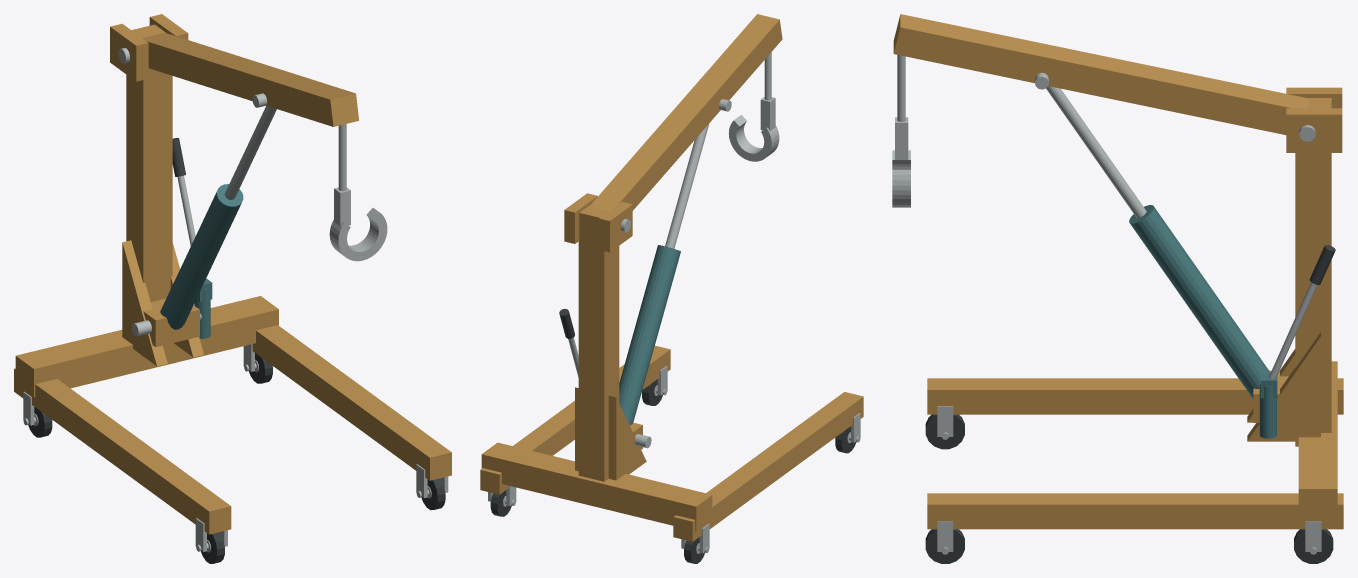
3 views of the same model, side by side, from view 1: azimuth 30°, elevation 25°; view 2: azimuth 150°, elevation 25°; view 3: azimuth 270°, elevation 25° (orthographic). The views are drawn at different scales.
Parts seen in each view (by area): view 1: WholeRearUprightMast, WholeLongChassisLegLeft, WholeRearChassisCrossmember, WholeLongChassisLegRight, WholeHighInclinedBoom, WholeInclinedCylinderBody, WholeMastFootGussetNear, WholeOpenSuspendedHook, WholeUpperPivotCheekNear, WholeLowerStrutBracket, WholeExtendedSmoothRod, WholeHookUpperShank (+3 smaller); view 2: WholeRearUprightMast, WholeHighInclinedBoom, WholeRearChassisCrossmember, WholeLongChassisLegLeft, WholeInclinedCylinderBody, WholeLongChassisLegRight, WholeMastFootGussetNear, WholeExtendedSmoothRod, WholeOpenSuspendedHook, WholeUpperPivotCheekNear, WholeUpperPivotCheekFar, WholeHookUpperShank; view 3: WholeHighInclinedBoom, WholeLongChassisLegRight, WholeLongChassisLegLeft, WholeRearUprightMast, WholeInclinedCylinderBody, WholeRearChassisCrossmember, WholeMastFootGussetFar, WholeUpperPivotCheekFar, WholeExtendedSmoothRod, WholeOpenSuspendedHook, WholeSmallPumpBody, WholeWheelTireLeftFront (+6 smaller).
Part boxes in pixels (<box>): WholeRearUprightMast: <box>126,24,172,356</box>; WholeLongChassisLegLeft: <box>14,368,231,534</box>; WholeRearChassisCrossmember: <box>15,296,278,397</box>; WholeLongChassisLegRight: <box>252,325,451,480</box>; WholeHighInclinedBoom: <box>142,32,358,126</box>; WholeInclinedCylinderBody: <box>160,184,243,329</box>; WholeMastFootGussetNear: <box>122,240,167,366</box>; WholeOpenSuspendedHook: <box>329,208,387,261</box>; WholeUpperPivotCheekNear: <box>110,23,148,81</box>; WholeLowerStrutBracket: <box>143,298,199,347</box>; WholeExtendedSmoothRod: <box>224,106,276,199</box>; WholeHookUpperShank: <box>334,187,350,226</box>; WholeRearUprightMast: <box>578,204,619,481</box>; WholeHighInclinedBoom: <box>590,14,782,210</box>; WholeRearChassisCrossmember: <box>481,442,712,531</box>; WholeLongChassisLegLeft: <box>673,392,863,541</box>; WholeInclinedCylinderBody: <box>619,245,680,425</box>; WholeLongChassisLegRight: <box>480,345,670,494</box>; WholeMastFootGussetNear: <box>608,395,646,480</box>; WholeExtendedSmoothRod: <box>665,123,709,248</box>; WholeOpenSuspendedHook: <box>728,115,779,161</box>; WholeUpperPivotCheekNear: <box>599,202,632,252</box>; WholeUpperPivotCheekFar: <box>564,193,597,243</box>; WholeHookUpperShank: <box>760,97,775,130</box>; WholeHighInclinedBoom: <box>893,14,1308,134</box>; WholeLongChassisLegRight: <box>927,493,1343,529</box>; WholeLongChassisLegLeft: <box>927,378,1343,414</box>; WholeRearUprightMast: <box>1295,98,1331,446</box>; WholeInclinedCylinderBody: <box>1129,205,1270,398</box>; WholeRearChassisCrossmember: <box>1298,361,1337,518</box>; WholeMastFootGussetFar: <box>1247,332,1320,441</box>; WholeUpperPivotCheekFar: <box>1286,108,1342,152</box>; WholeExtendedSmoothRod: <box>1046,86,1146,218</box>; WholeOpenSuspendedHook: <box>892,150,910,207</box>; WholeSmallPumpBody: <box>1259,381,1276,438</box>; WholeWheelTireLeftFront: <box>925,414,964,449</box>.
Bounding box in the file's own units: 1.01 × 1.77 × 1.5.
